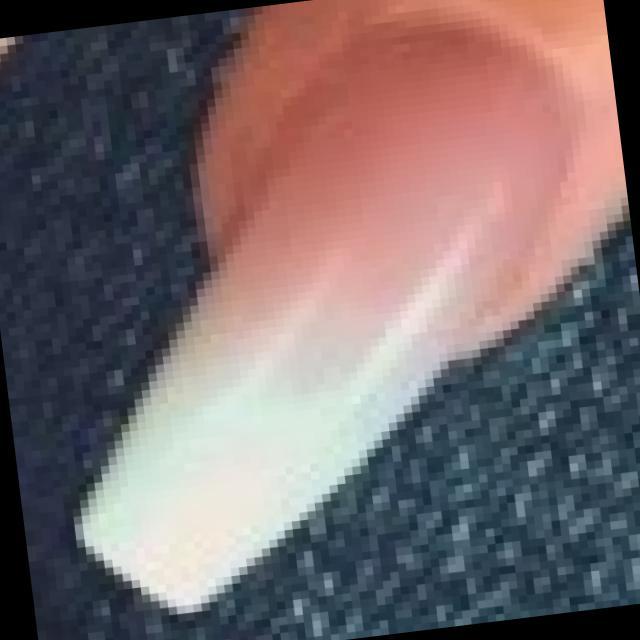Nail: (73, 3, 584, 617)
